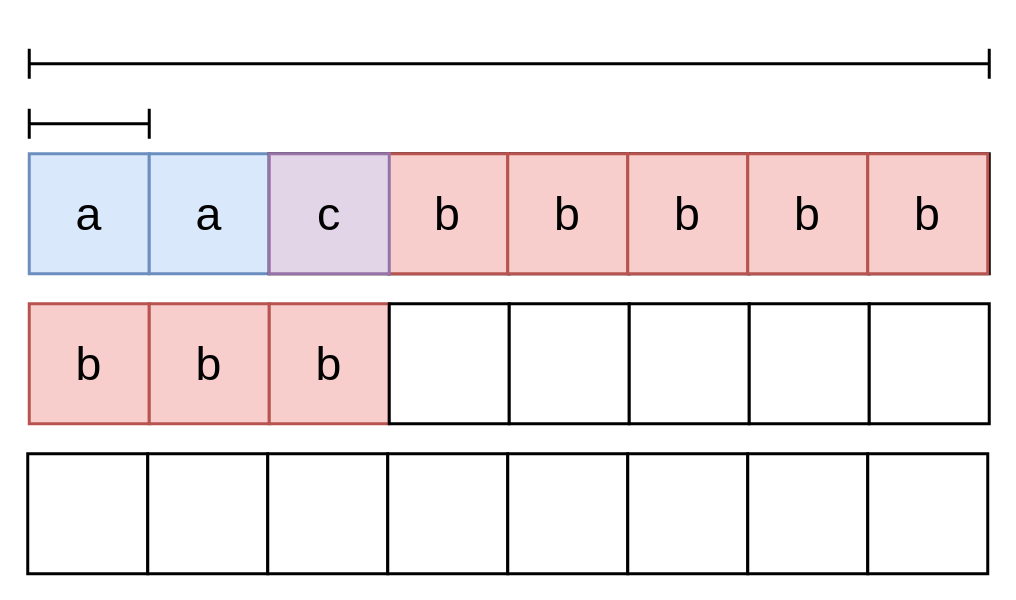
The diagram is 1016 pixels wide and 600 high, and some of its shapes have lost their labels. Here are the shapes that lost their labels. From the top down, the box of each, then its label:
(27, 46, 990, 80): 8-byte
(27, 106, 150, 140): 1-byte
